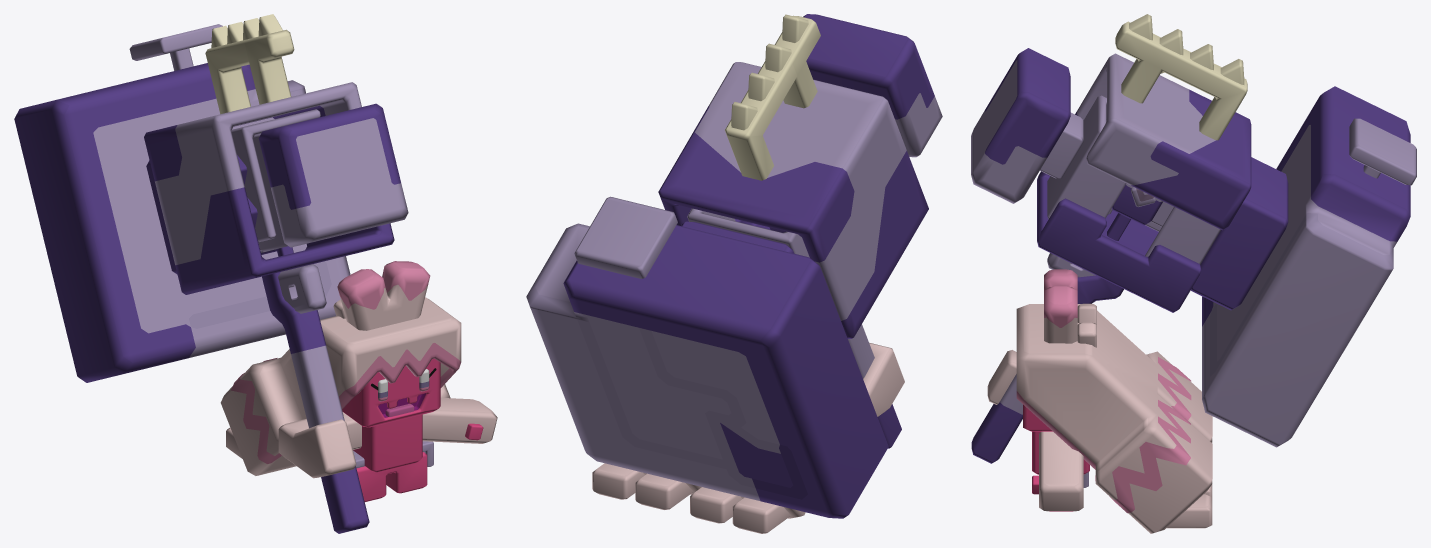
The picture shows the model from 3 angles, left to right: view 1: azimuth 30°, elevation 25°; view 2: azimuth 150°, elevation 25°; view 3: azimuth 270°, elevation 25°; orthographic projection. The views are drawn at different scales.
Parts seen in each view (by area): view 1: model; view 2: model; view 3: model.
Boxes of the visible parts, x1,y1,x2,y2 form: model: [14, 14, 497, 533]; model: [526, 14, 942, 533]; model: [971, 14, 1416, 533].
Bounding box in the file's own units: 2.34 × 3.45 × 3.13.
